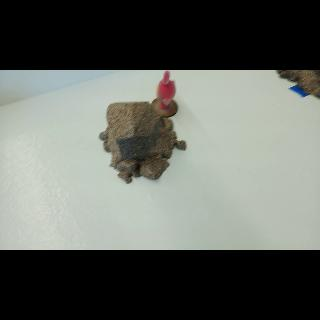teletubby: (156, 70, 176, 112)
